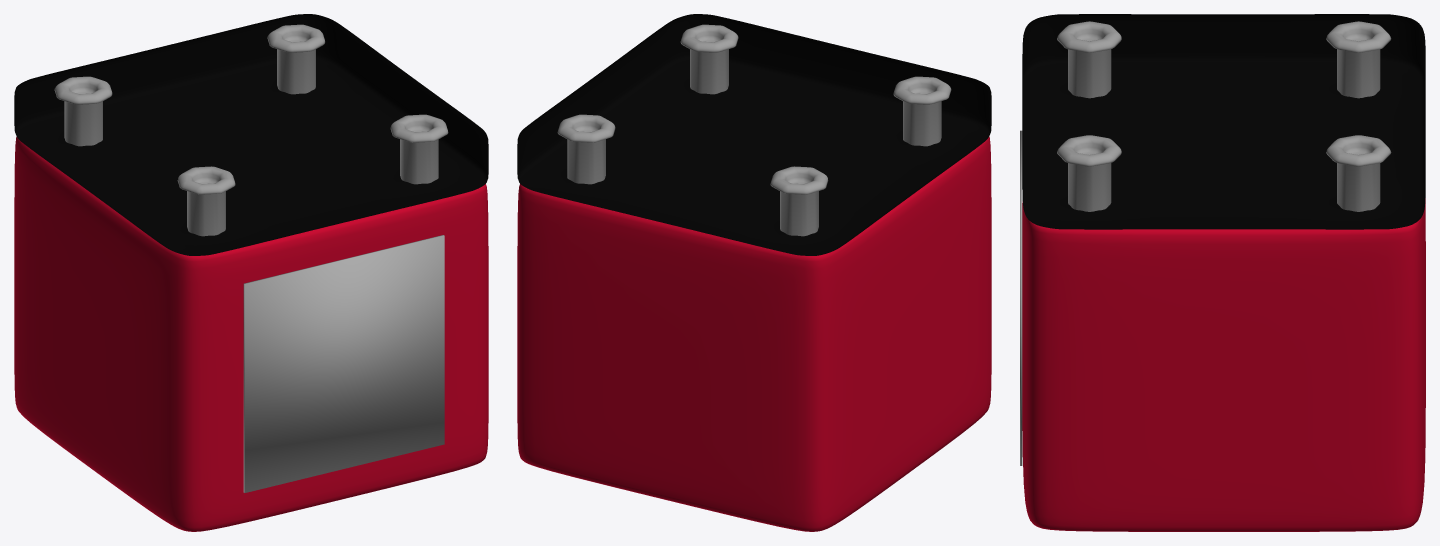
3 views of the same model, side by side, from view 1: azimuth 30°, elevation 25°; view 2: azimuth 150°, elevation 25°; view 3: azimuth 270°, elevation 25° (orthographic). The views are drawn at different scales.
Parts seen in each view (by area): view 1: base-dirYPOS-backplate, exp-L1-dirYPOS-deckel, exp-L3-dirZPOS-sticker, exp-L2-dirYPOS-schrauben; view 2: base-dirYPOS-backplate, exp-L1-dirYPOS-deckel, exp-L2-dirYPOS-schrauben; view 3: base-dirYPOS-backplate, exp-L1-dirYPOS-deckel, exp-L2-dirYPOS-schrauben, exp-L3-dirZPOS-sticker.
Boxes of the visible parts, box(x1,y1,x2,y2) form: base-dirYPOS-backplate: box(14, 136, 488, 531); exp-L1-dirYPOS-deckel: box(14, 14, 488, 255); exp-L3-dirZPOS-sticker: box(243, 235, 444, 492); exp-L2-dirYPOS-schrauben: box(54, 24, 448, 236); base-dirYPOS-backplate: box(517, 136, 991, 531); exp-L1-dirYPOS-deckel: box(517, 14, 991, 255); exp-L2-dirYPOS-schrauben: box(557, 24, 951, 236); base-dirYPOS-backplate: box(1022, 198, 1425, 531); exp-L1-dirYPOS-deckel: box(1022, 14, 1425, 229); exp-L2-dirYPOS-schrauben: box(1057, 21, 1391, 211); exp-L3-dirZPOS-sticker: box(1020, 130, 1022, 465).
Bounding box in the file's own units: 1.09 × 1.07 × 1.09.
